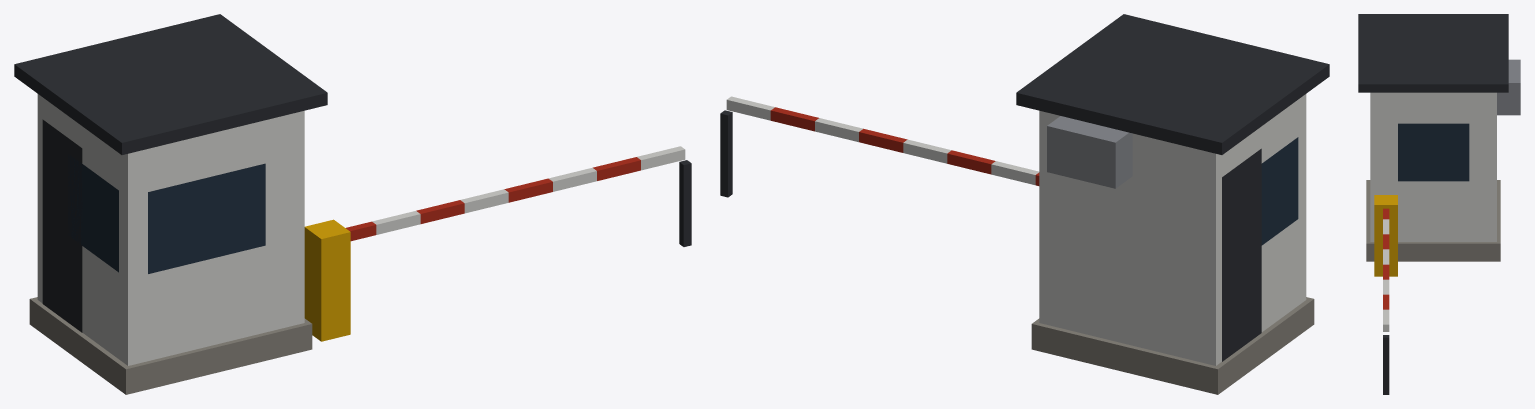
File: prop_guard-post.9e371e906c8d.glb
The picture shows the model from 3 angles, left to right: view 1: azimuth 30°, elevation 25°; view 2: azimuth 150°, elevation 25°; view 3: azimuth 270°, elevation 25°; orthographic projection. The views are drawn at different scales.
Parts seen in each view (by area): view 1: body; view 2: body; view 3: body.
Part boxes in pixels (x1,y1,x2,y2): body: (14, 14, 691, 394); body: (720, 14, 1329, 394); body: (1358, 14, 1520, 394).
Size of the model in its own units: 5.99 by 2.52 by 2.05.
